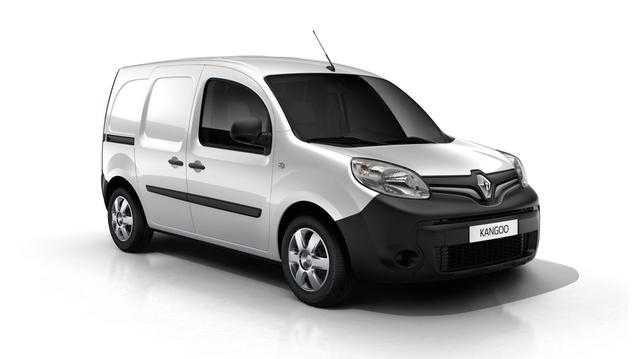car: (93, 47, 542, 287)
